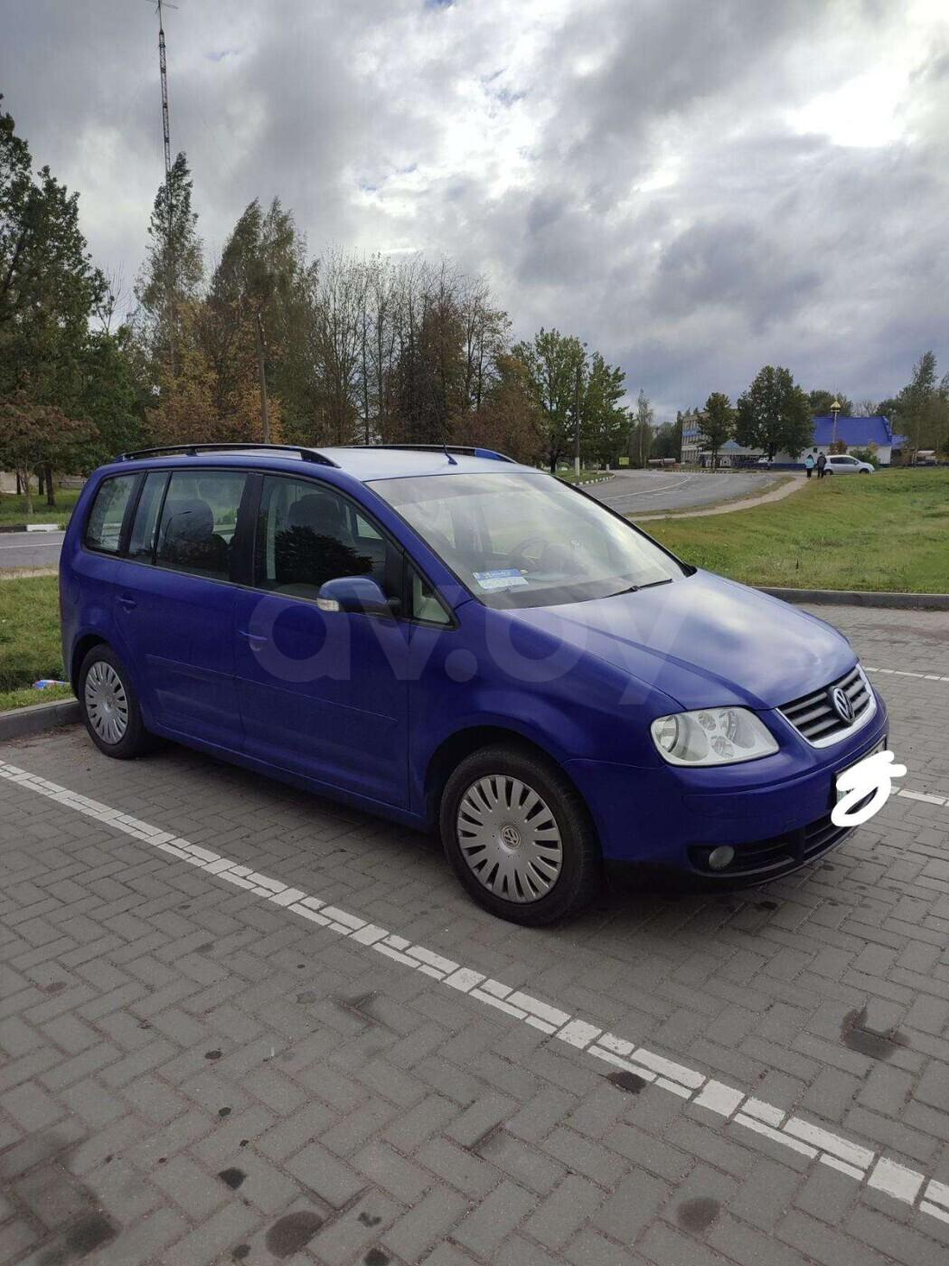Touran_2003-2006: (56, 436, 895, 908)
